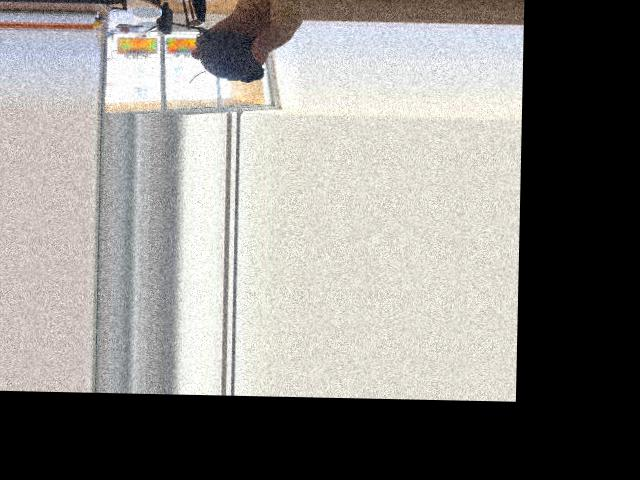beet: (144, 21, 264, 83)
